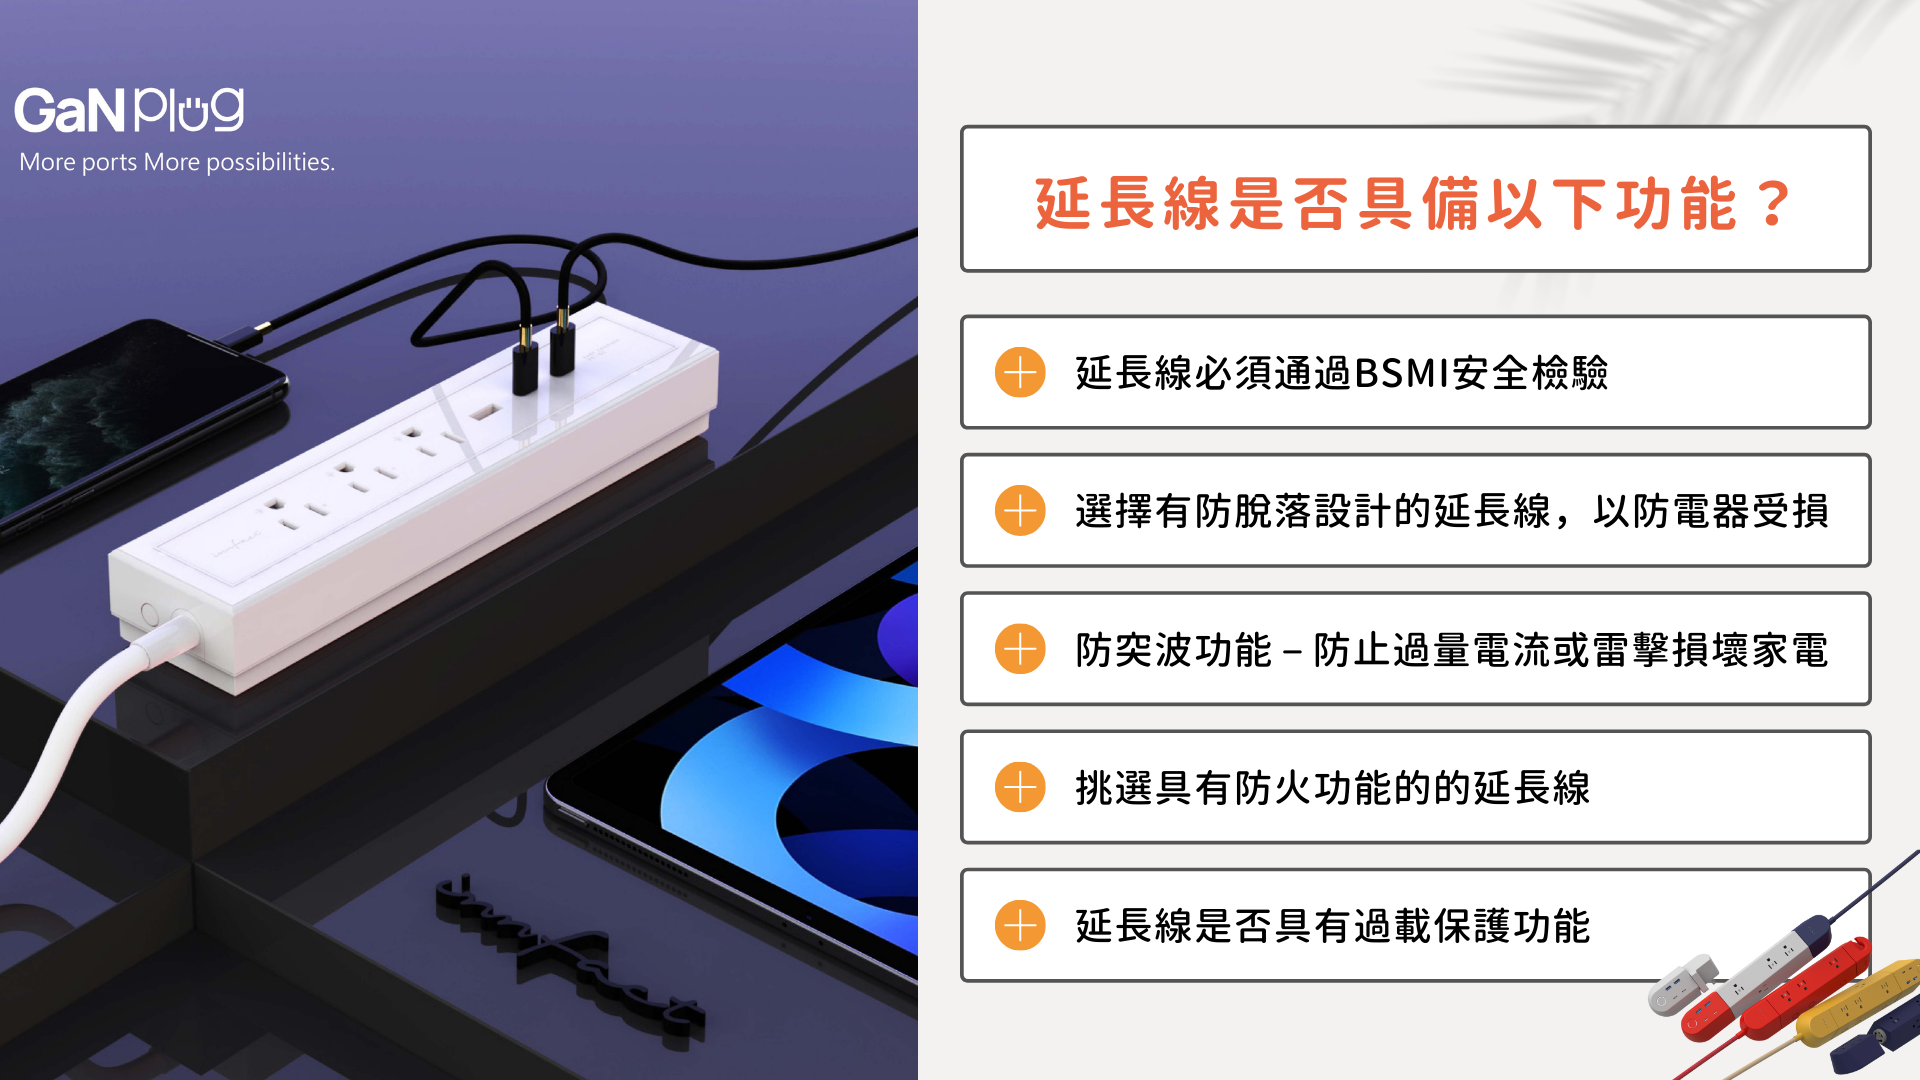socket: (104, 297, 727, 699)
